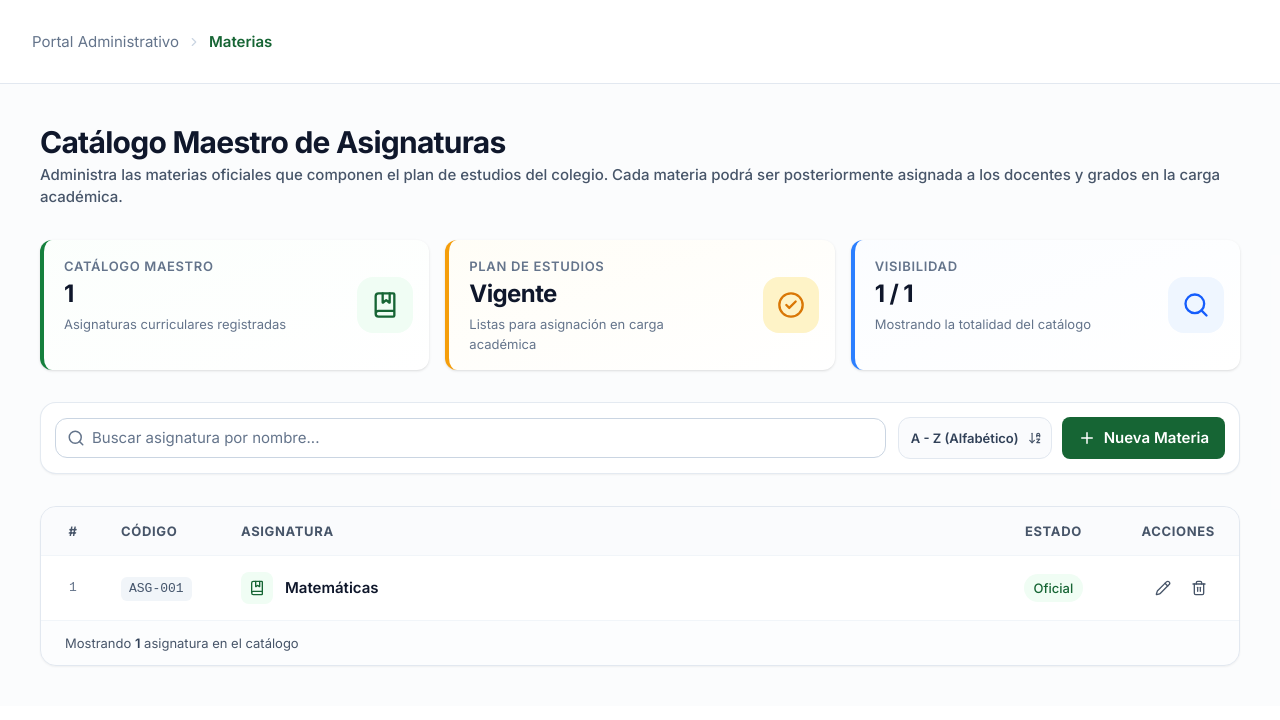
Test: Integración: Catálogo Maestro de Asignaturas › conserva la asignatura cuando el servidor rechaza su eliminación por tener carga académica
The width and height of the screenshot is (1280, 720).
What coordinates should you click on to do the following:
click the button named "eliminar matemáticas"
I would click on:
 (1199, 588)
Its box is left=1183, top=572, right=1215, bottom=604.
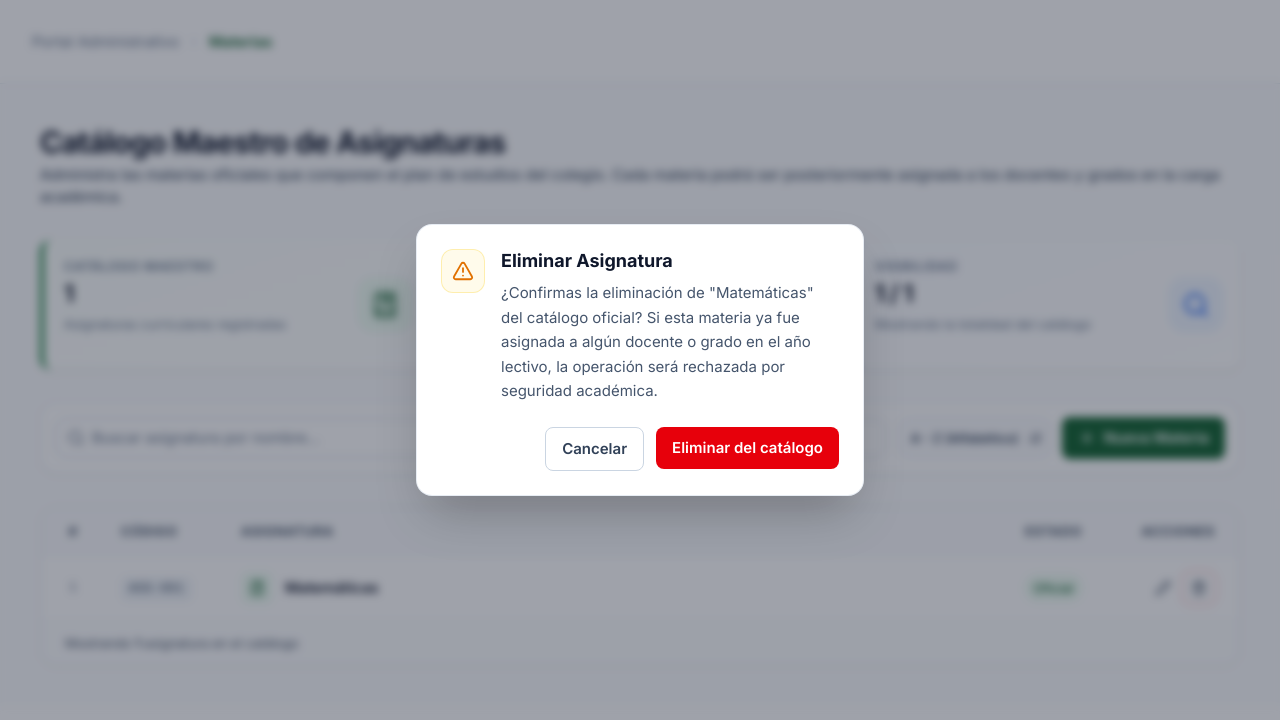
What coordinates should you click on to do the following:
click the button "Eliminar del catálogo"
I would click on:
 (748, 448)
Its box is left=656, top=427, right=839, bottom=469.
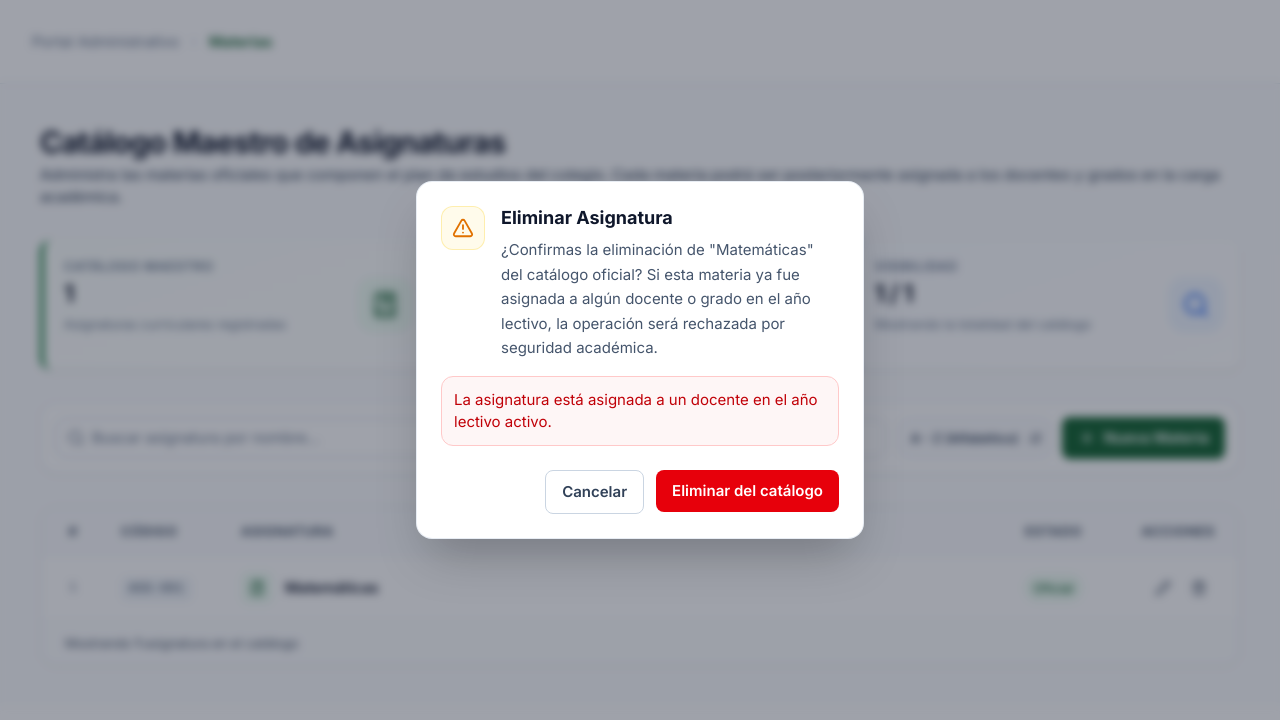
Expected: the text "Matemáticas" is shown, left=285, top=577, right=378, bottom=599
Now the text "asignada a un docente en el año lectivo activo" is shown, box left=454, top=390, right=818, bottom=431
